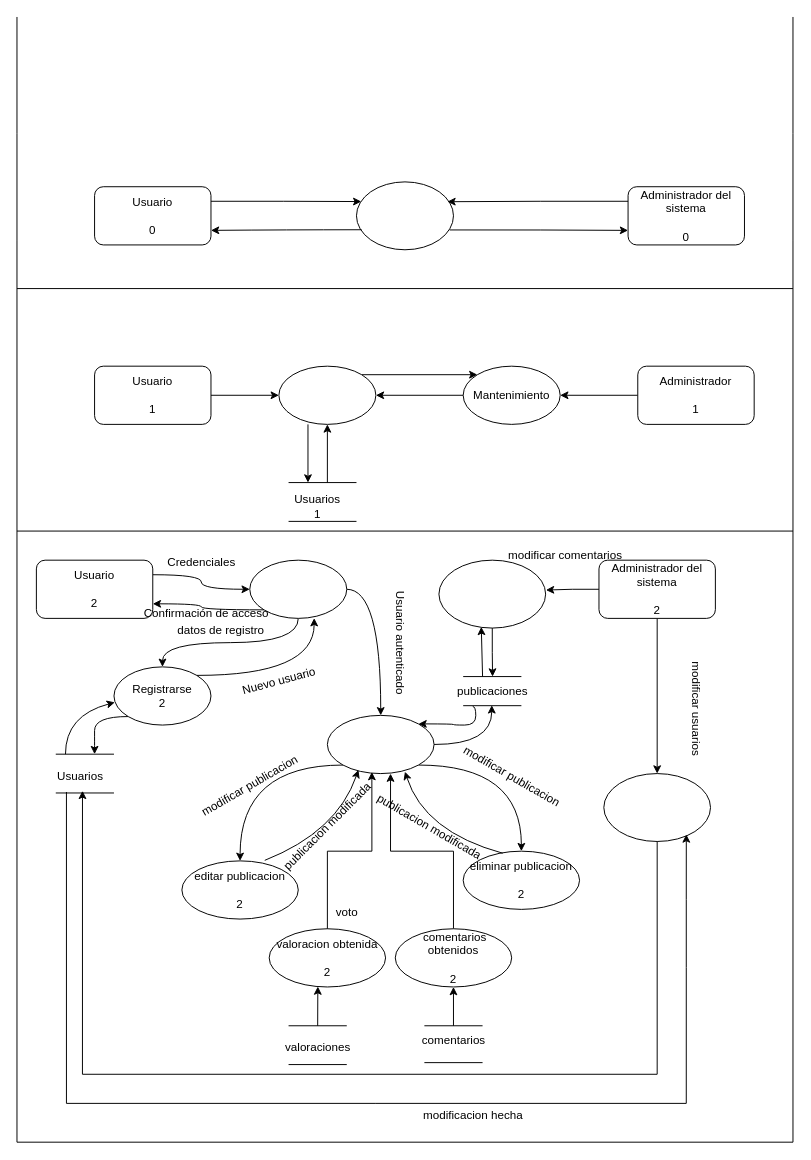
Image size: 811x1160. Some labels were removed from this diagram. Here are the shapes that lost their labels. From the top down, the centre of each, then its label:
the point at 404,215: Sistema de comunicacion 0
the point at 327,394: autentificacion 1
the point at 298,588: iniciar sesion 2
the point at 492,593: Gestionar comentarios 2
the point at 380,744: Crear publicacion 2
the point at 657,807: Gestionar usuarios 2
